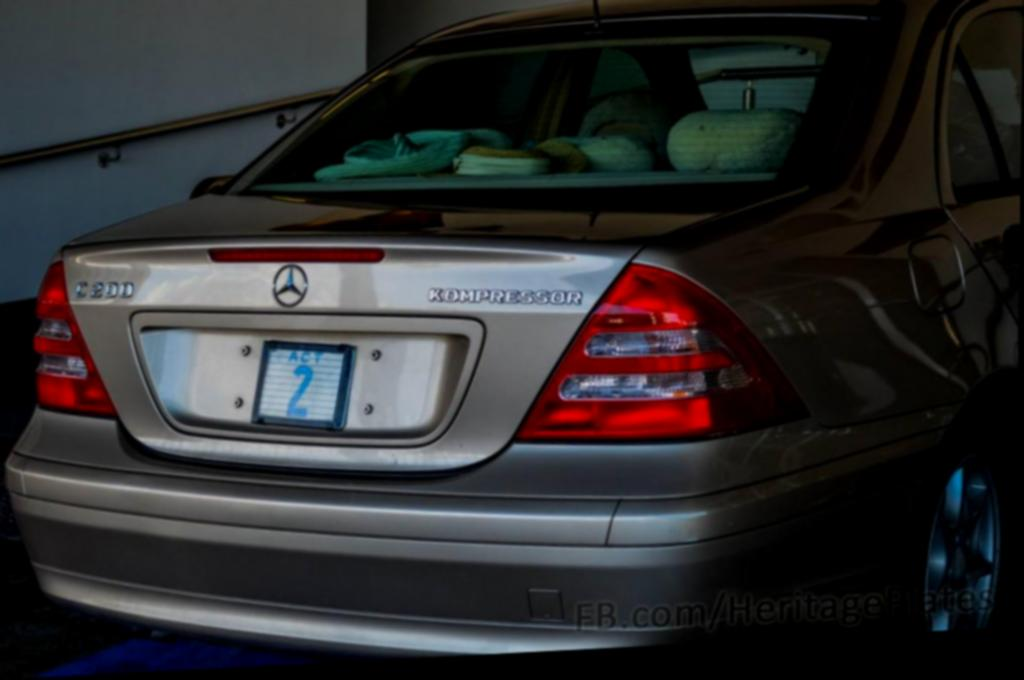License_Plate: (233, 320, 372, 444)
